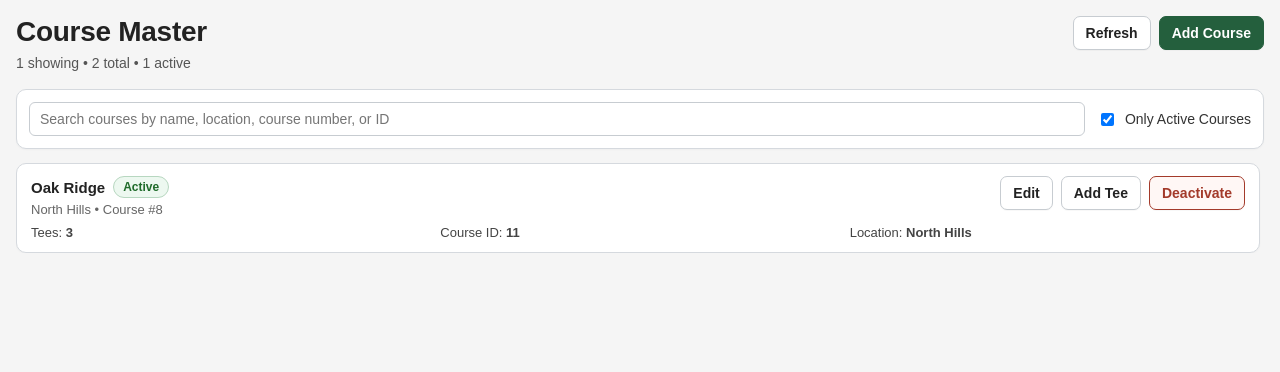
Test: Course master list characterization (before extraction) › includes inactive courses when Only Active Courses is unchecked
Check: the text "Oak Ridge" is shown, box [31,179,105,196]
Click the checkbox labelled "Only Active Courses": click(1107, 119) [1101,113,1114,126]
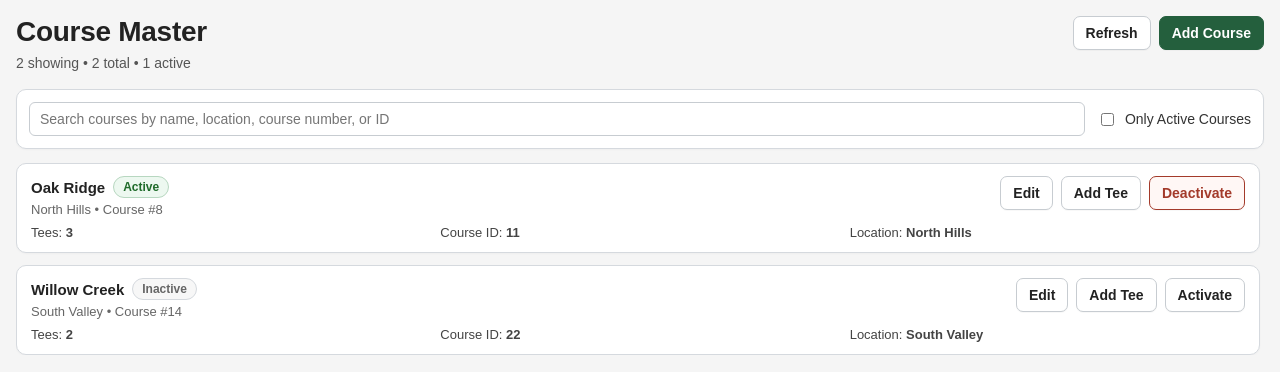
Check: the text "Willow Creek" is shown, box [31,281,124,298]
Check: the text "2 showing • 2 total • 1 active" is shown, box [16,55,191,71]
Check: the text "Inactive" is shown, box [132,278,197,300]
